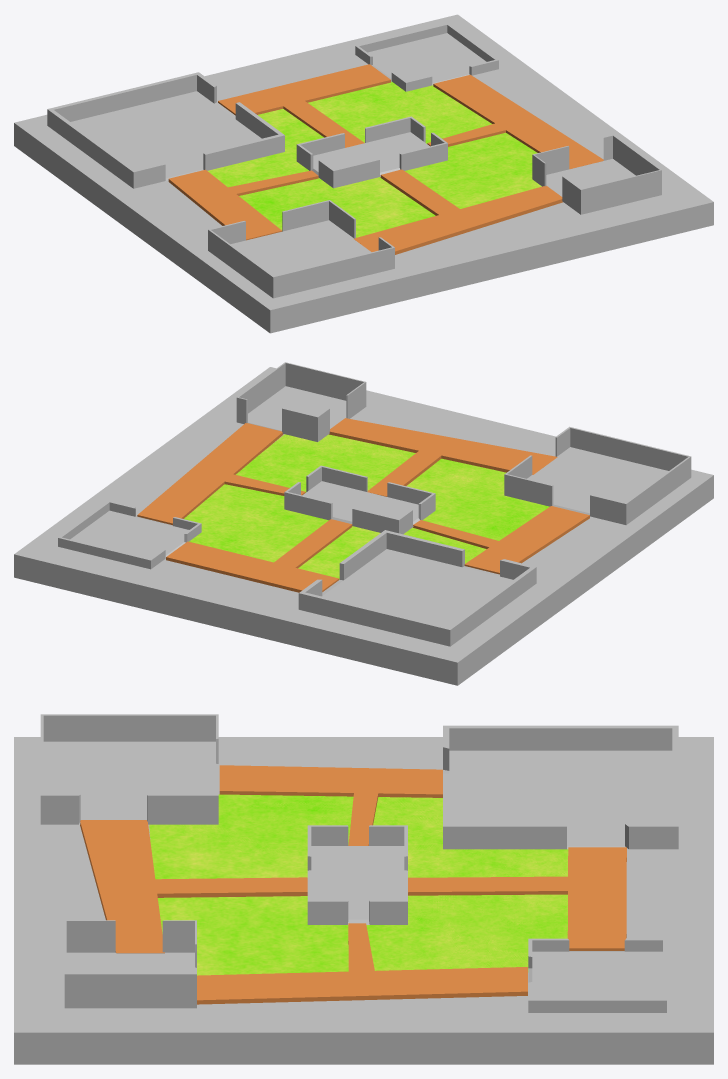
File: stage.fbx
3 views of the same model, one above another, from view 1: azimuth 30°, elevation 25°; view 2: azimuth 150°, elevation 25°; view 3: azimuth 270°, elevation 25° (orthographic). The views are drawn at different scales.
Parts seen in each view (by area): view 1: Box011, Box016, Box017, Box019, Box020, Box018, Box015, Box021, Box008, Box009, Box010; view 2: Box011, Box016, Box017, Box019, Box018, Box020, Box015, Box021, Box008, Box009, Box010; view 3: Box011, Box016, Box017, Box019, Box008, Box015, Box018, Box021, Box020, Box009, Box010.
Part boxes in pixels (box(x1,y1,x2,y2)): Box011: box(14, 14, 713, 333); Box016: box(207, 81, 541, 237); Box017: box(47, 72, 284, 188); Box019: box(208, 200, 394, 298); Box020: box(296, 116, 447, 188); Box018: box(532, 135, 661, 214); Box015: box(353, 169, 562, 254); Box021: box(355, 23, 498, 91); Box008: box(427, 74, 603, 169); Box009: box(218, 64, 390, 147); Box010: box(168, 169, 318, 240); Box011: box(14, 367, 713, 685); Box016: box(184, 434, 549, 579); Box017: box(298, 530, 536, 646); Box019: box(504, 426, 691, 524); Box018: box(236, 362, 366, 441); Box020: box(284, 465, 435, 534); Box015: box(329, 418, 557, 496); Box021: box(58, 501, 201, 569); Box008: box(137, 423, 305, 525); Box009: box(166, 519, 352, 592); Box010: box(413, 506, 589, 574); Box011: box(14, 737, 713, 1064); Box016: box(149, 794, 568, 975); Box017: box(443, 725, 678, 849); Box019: box(40, 714, 218, 824); Box008: box(197, 923, 527, 1004); Box015: box(80, 820, 307, 953); Box018: box(64, 920, 196, 1008); Box021: box(528, 938, 666, 1012); Box020: box(307, 825, 407, 924); Box009: box(408, 847, 626, 950); Box010: box(219, 765, 442, 845).
Bounding box in the file's own units: 8066 × 8066 × 862.
